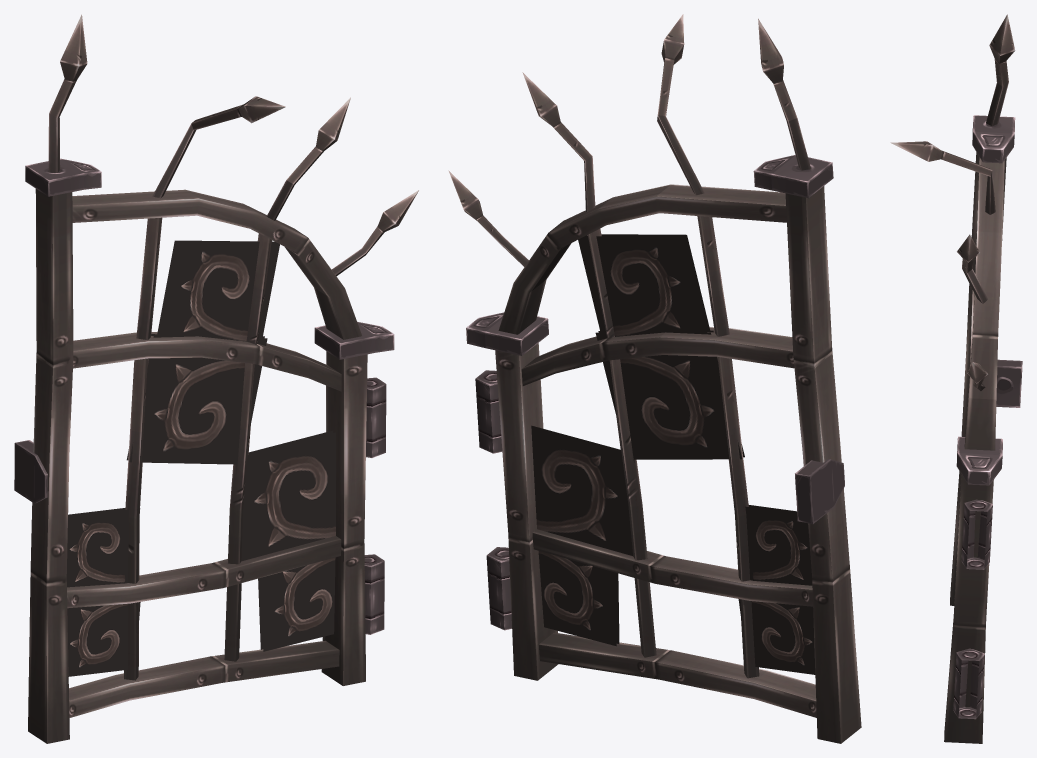
Rendered from fence_gate_r.fbx.
The picture shows the model from 3 angles, left to right: view 1: azimuth 30°, elevation 25°; view 2: azimuth 150°, elevation 25°; view 3: azimuth 270°, elevation 25°; orthographic projection. The views are drawn at different scales.
Visible parts, largest first — view 1: fence_gate_r; view 2: fence_gate_r; view 3: fence_gate_r.
Part boxes in pixels (x1=…): fence_gate_r: x1=14, y1=14, x2=418, y2=743; fence_gate_r: x1=448, y1=14, x2=861, y2=743; fence_gate_r: x1=890, y1=14, x2=1022, y2=743.
Bounding box in the file's own units: 5 × 8.74 × 1.68.
